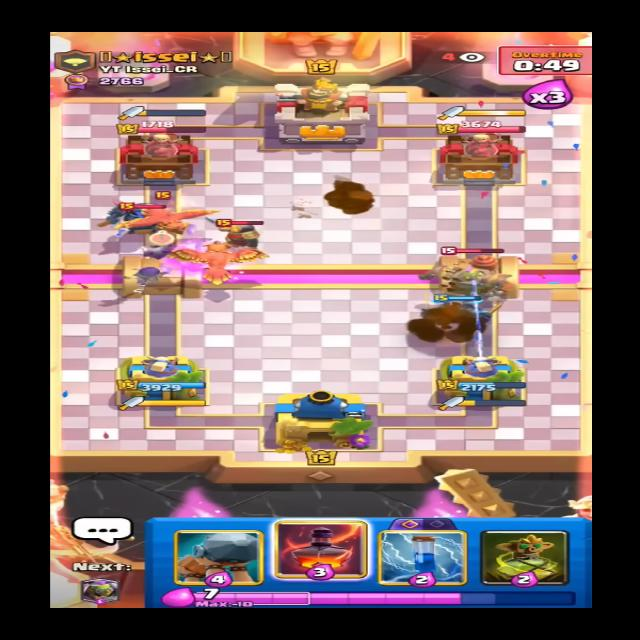goblin-machine: (426, 251, 528, 301)
knight: (209, 215, 272, 256)
pekka: (99, 196, 184, 236)
phoenix: (122, 189, 215, 236)
